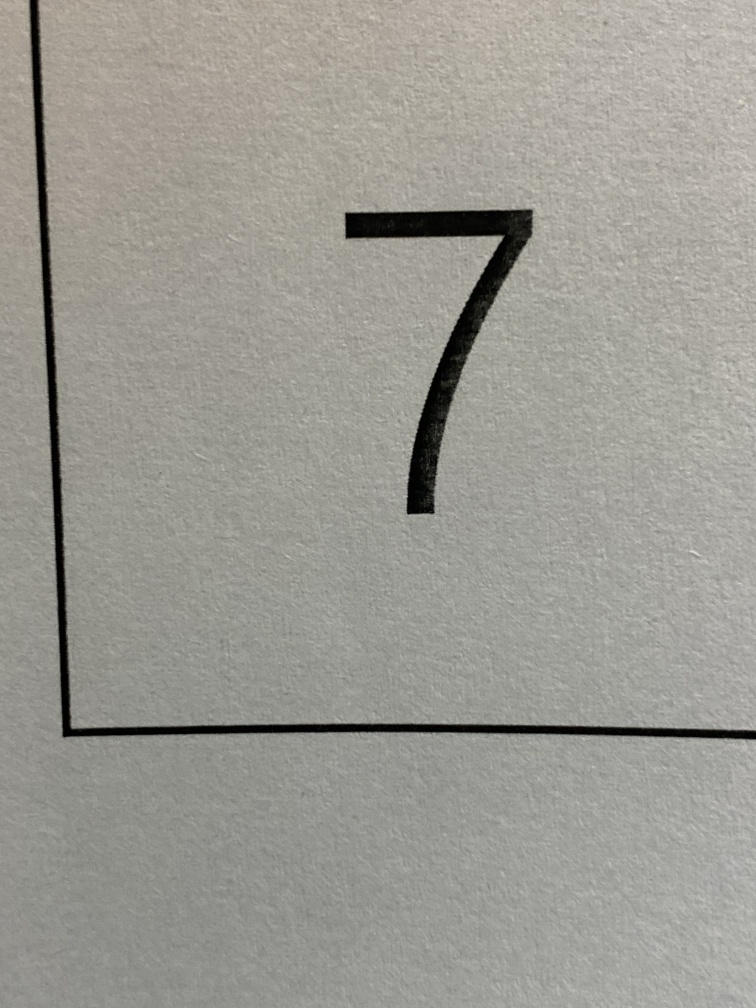seven: (278, 152, 602, 570)
